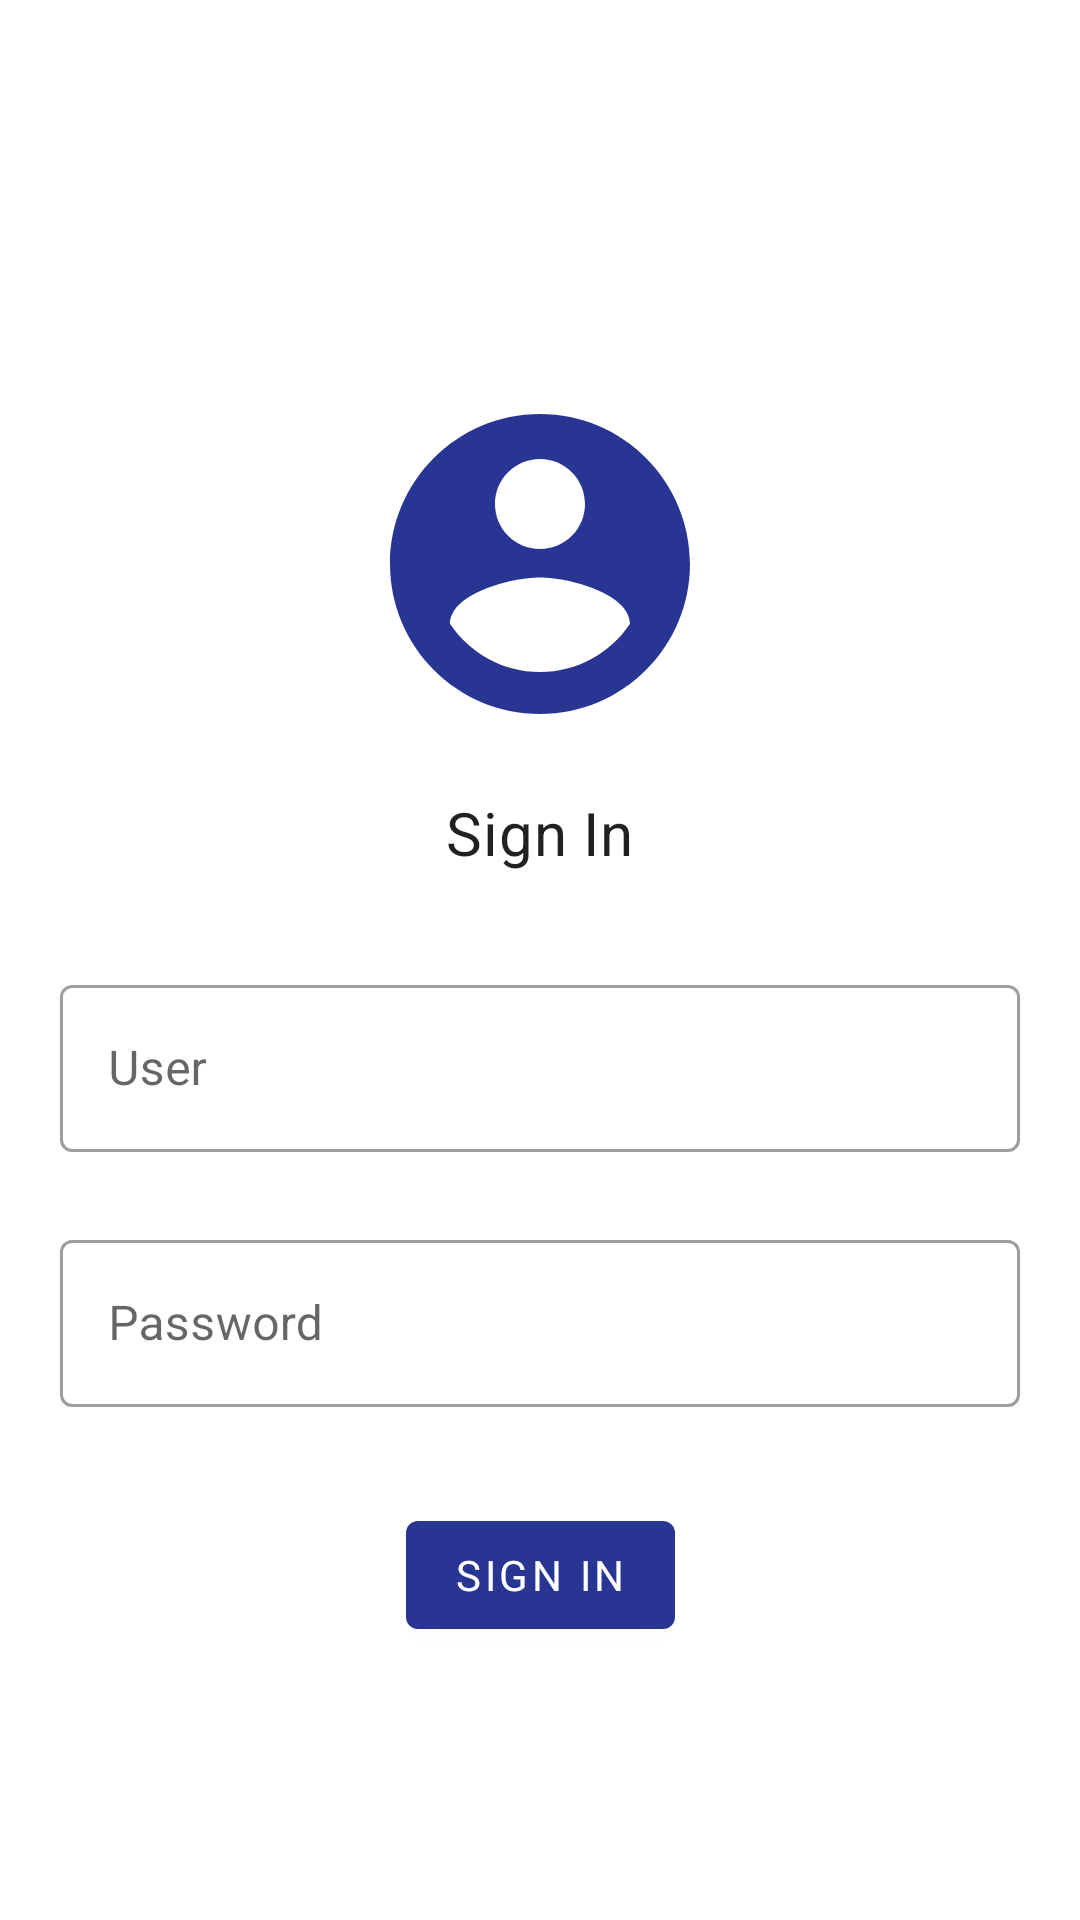

Screen size 1080*1920. Icon name, then its center in pixels as (x=x, y=y):
account circle: (x=540, y=564)
